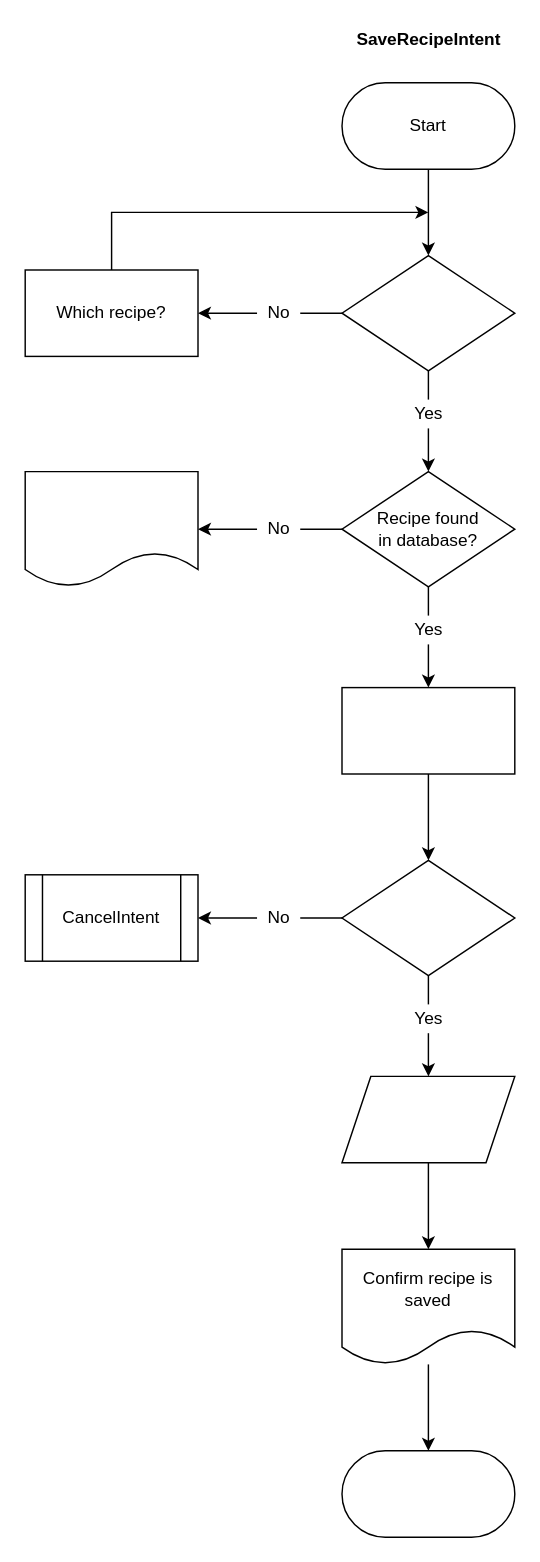
Some shapes in this 540 by 1562 pixel diagram are drawn without their labels. The box of each missing label's shape, as (x1, y1, x2, y2) in pixels:
Confirm recipe user wants to save: (341, 686, 515, 774)
End: (341, 1449, 515, 1537)
Recipe name?: (341, 254, 515, 371)
Recipe not found: (24, 470, 198, 587)
Save recipe?: (341, 859, 515, 976)
Store recipe w/ other saved recipes: (341, 1075, 515, 1163)
